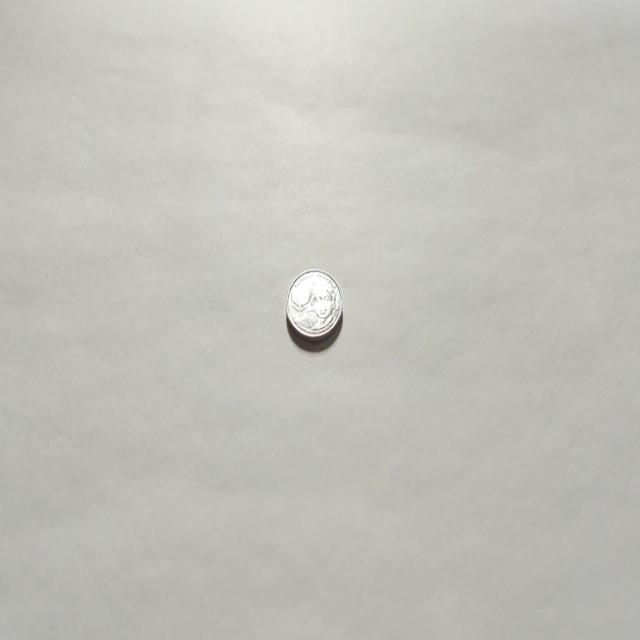dua ratus rupiah: (285, 266, 343, 344)
